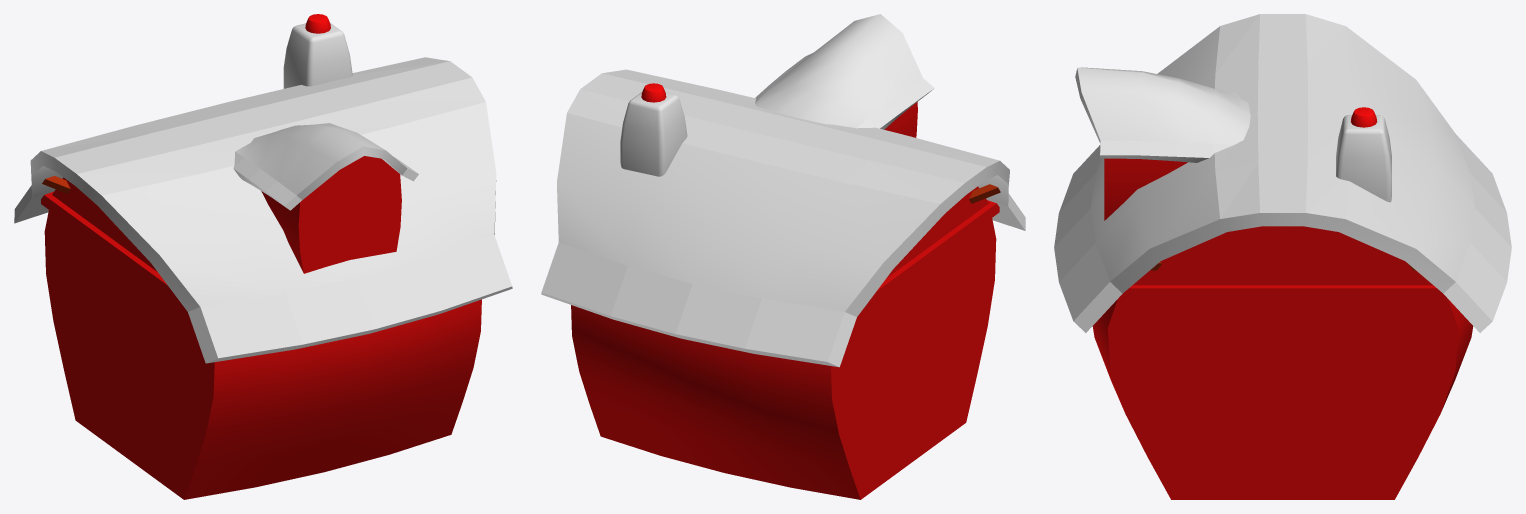
The model's file is SM_Maison01.FBX.
3 views of the same model, side by side, from view 1: azimuth 30°, elevation 25°; view 2: azimuth 150°, elevation 25°; view 3: azimuth 270°, elevation 25° (orthographic). The views are drawn at different scales.
Visible parts, largest first — view 1: maison_variation0106, Box091, maison_variation0108, maison_variation0110, maison_variation0115; view 2: maison_variation0106, Box091, maison_variation0110, maison_variation0115, maison_variation0108; view 3: Box091, maison_variation0106, maison_variation0110, maison_variation0115, maison_variation0108.
Boxes of the visible parts, x1,y1,x2,y2 form: maison_variation0106: (14, 57, 512, 363); Box091: (41, 177, 481, 499); maison_variation0108: (261, 156, 401, 273); maison_variation0110: (233, 123, 418, 210); maison_variation0115: (283, 23, 352, 88); maison_variation0106: (541, 69, 1025, 367); Box091: (571, 186, 999, 499); maison_variation0110: (755, 14, 934, 129); maison_variation0115: (620, 92, 687, 176); maison_variation0108: (884, 102, 917, 137); Box091: (1092, 226, 1473, 499); maison_variation0106: (1054, 14, 1511, 332); maison_variation0110: (1075, 67, 1250, 162); maison_variation0115: (1336, 115, 1391, 202); maison_variation0108: (1104, 158, 1187, 220).
Size of the model in its own units: 39.55 by 34.16 by 38.45.
